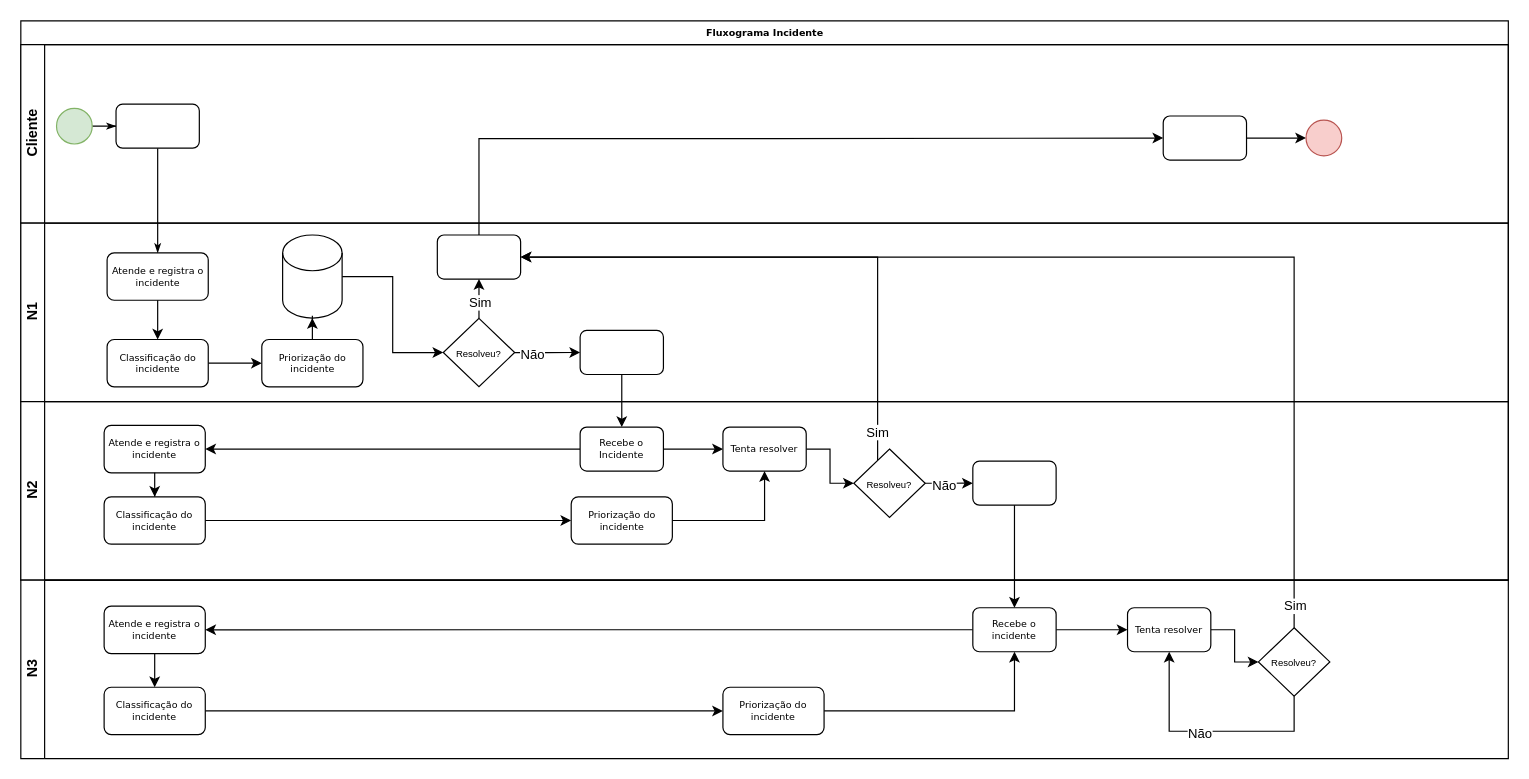
Image size: 1529x779. Some labels were removed from this diagram. Each missing label, with the centre of its shape:
"Consultar base de dados" goes at point (311, 276).
"Contatar usuário" goes at point (1204, 137).
"Enviar para o N2" goes at point (621, 351).
"Enviar para o N3" goes at point (1014, 482).
"Registrar serviço" goes at point (478, 256).
"Solicita serviço de incidente" goes at point (157, 125).
